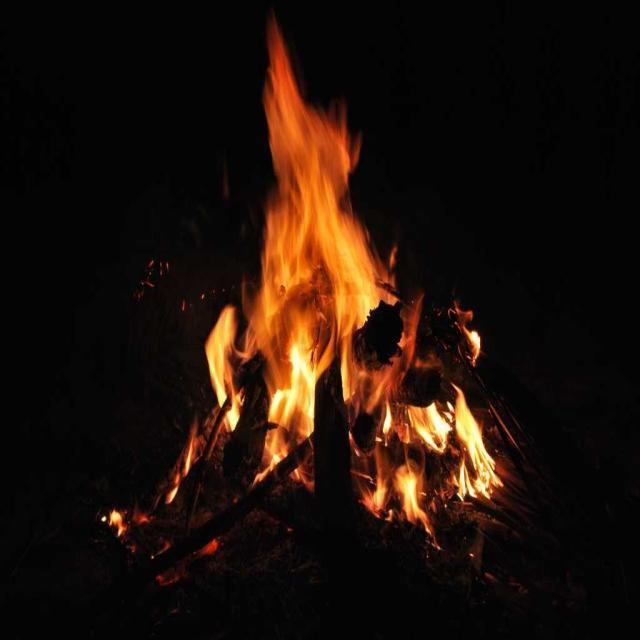Fire: (234, 70, 390, 488)
